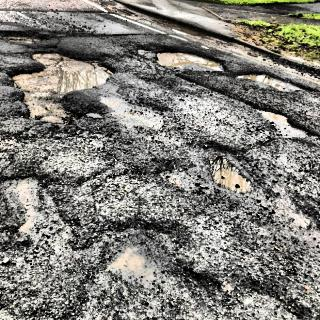pothole: (9, 45, 108, 125), (0, 171, 56, 249), (201, 146, 257, 198), (246, 107, 312, 141), (104, 238, 151, 283), (150, 47, 227, 74), (234, 69, 305, 95), (0, 28, 53, 45)
